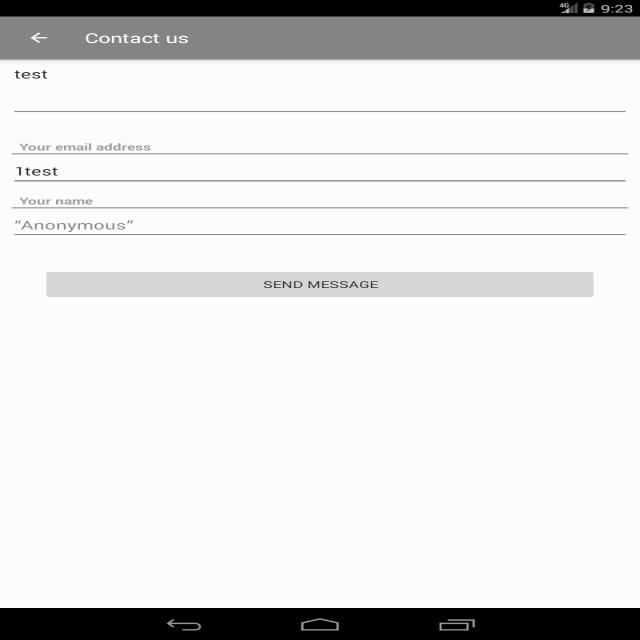Button: (35, 265, 603, 303)
EditText: (12, 190, 610, 213), (12, 138, 624, 157)
ImageButton: (23, 28, 54, 46)
TextView: (75, 28, 195, 51), (8, 64, 55, 82)
